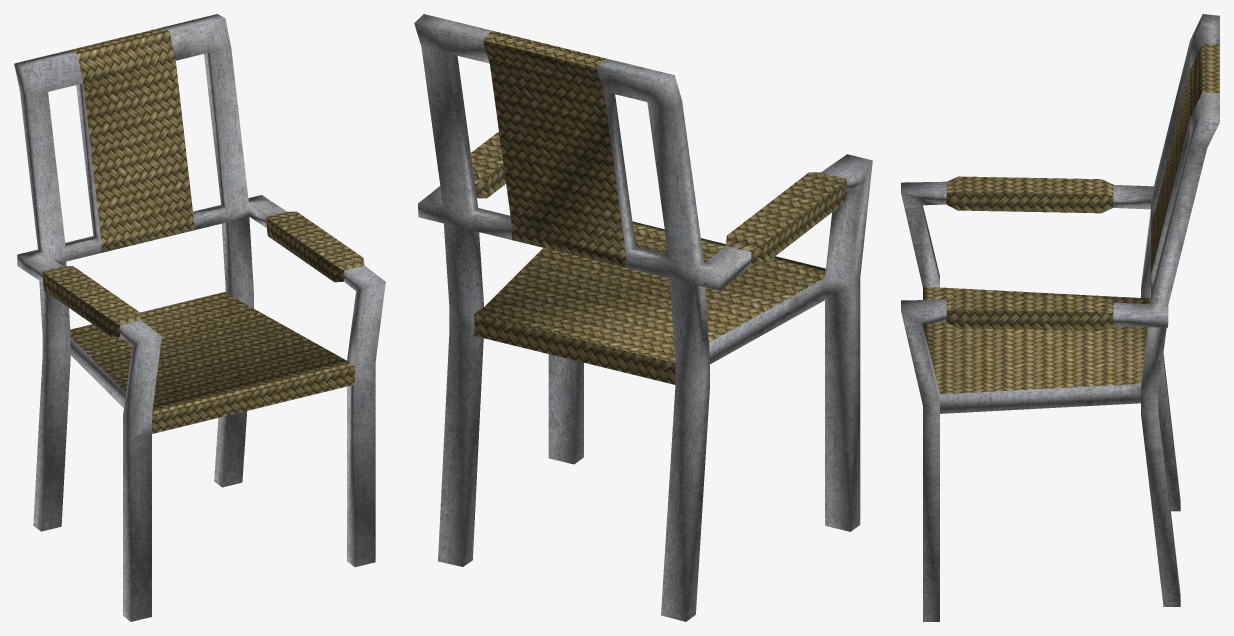
File: UDC_ChairElegant.obj
3 renders of one model, left to right at view 1: azimuth 30°, elevation 25°; view 2: azimuth 150°, elevation 25°; view 3: azimuth 270°, elevation 25°, orthographic. The views are drawn at different scales.
Parts seen in each view (by area): view 1: UDC_ChairElegant; view 2: UDC_ChairElegant; view 3: UDC_ChairElegant.
Part boxes in pixels (box(x1,y1,x2,y2)): UDC_ChairElegant: box(14, 14, 385, 621); UDC_ChairElegant: box(414, 14, 872, 621); UDC_ChairElegant: box(901, 14, 1219, 621).
Bounding box in the file's own units: 0.2154 × 0.3699 × 0.2181.
Materials: 2 (2 with a texture image).
